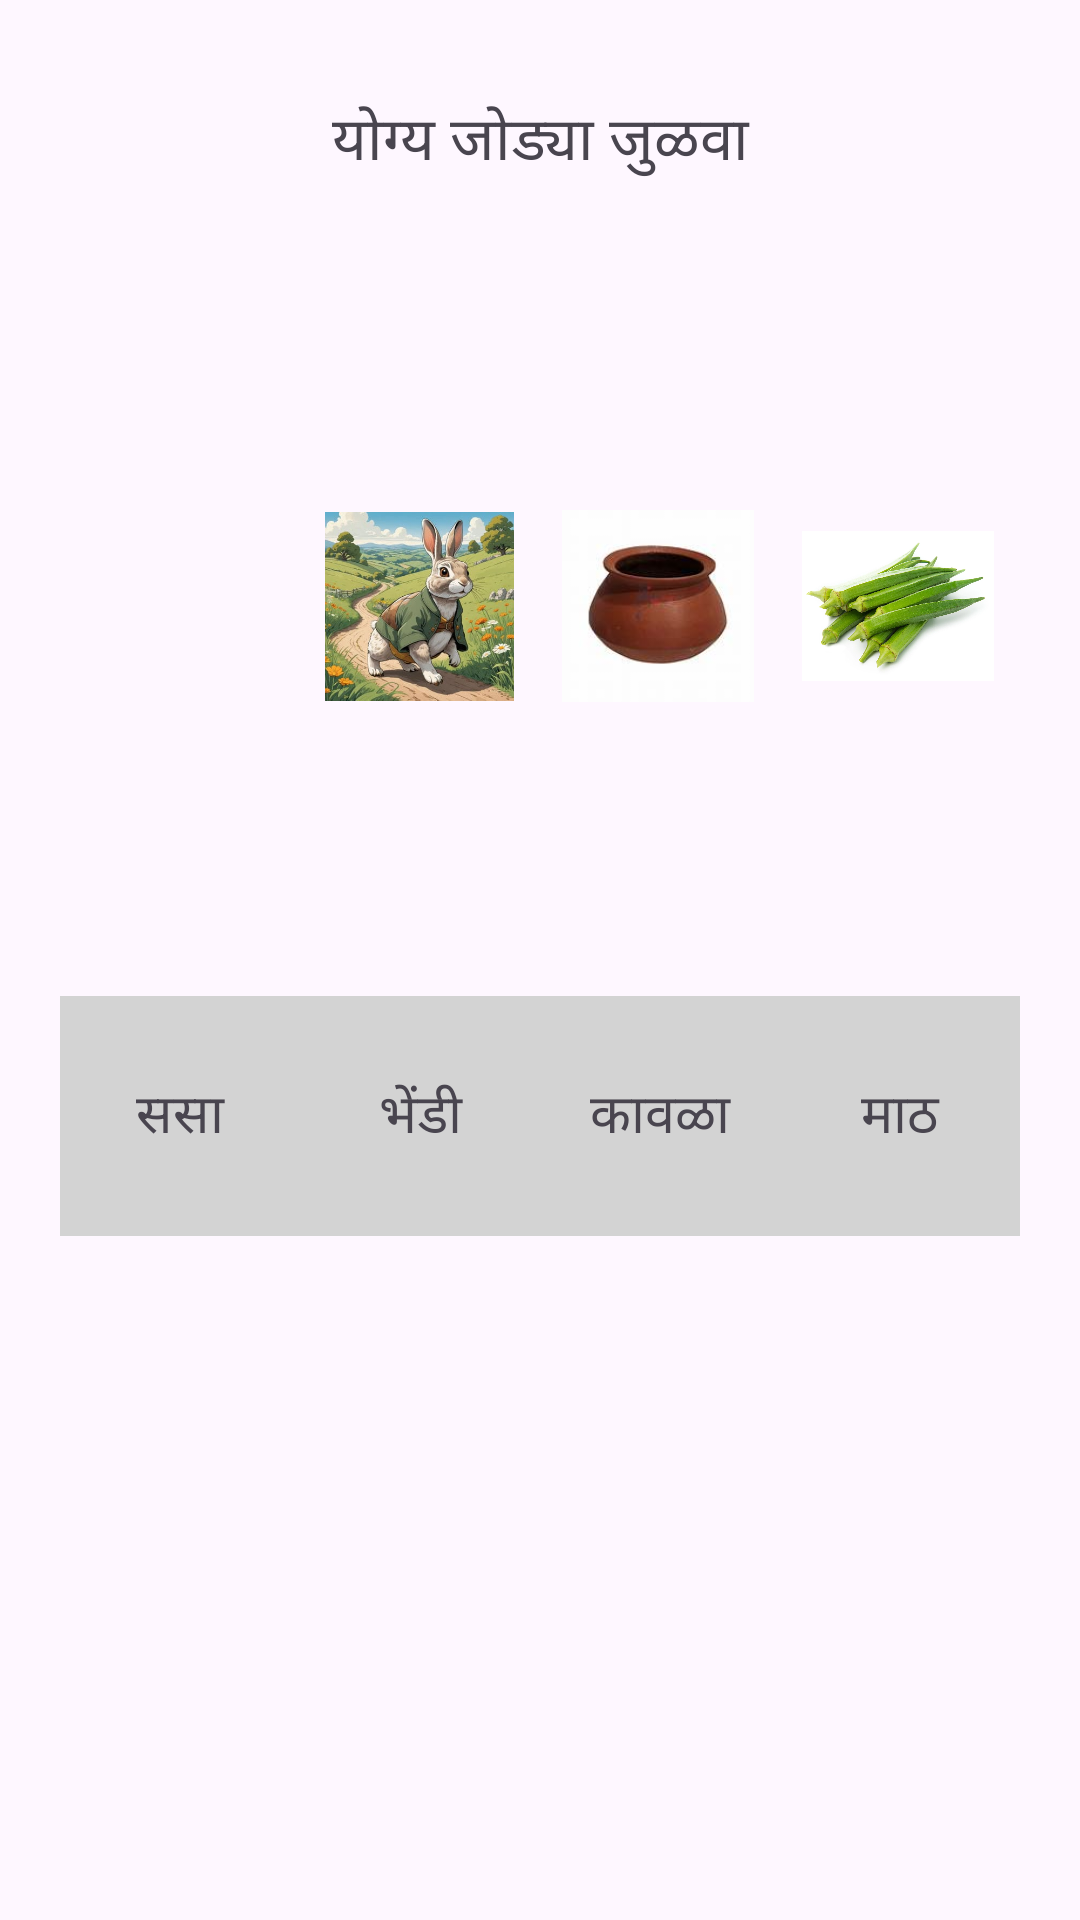

Named icons in this screenshot (1080×1920) and their centers, (x=x, y=y):
भेंडी: (x=895, y=606)
माठ: (x=658, y=604)
ससा: (x=419, y=606)
